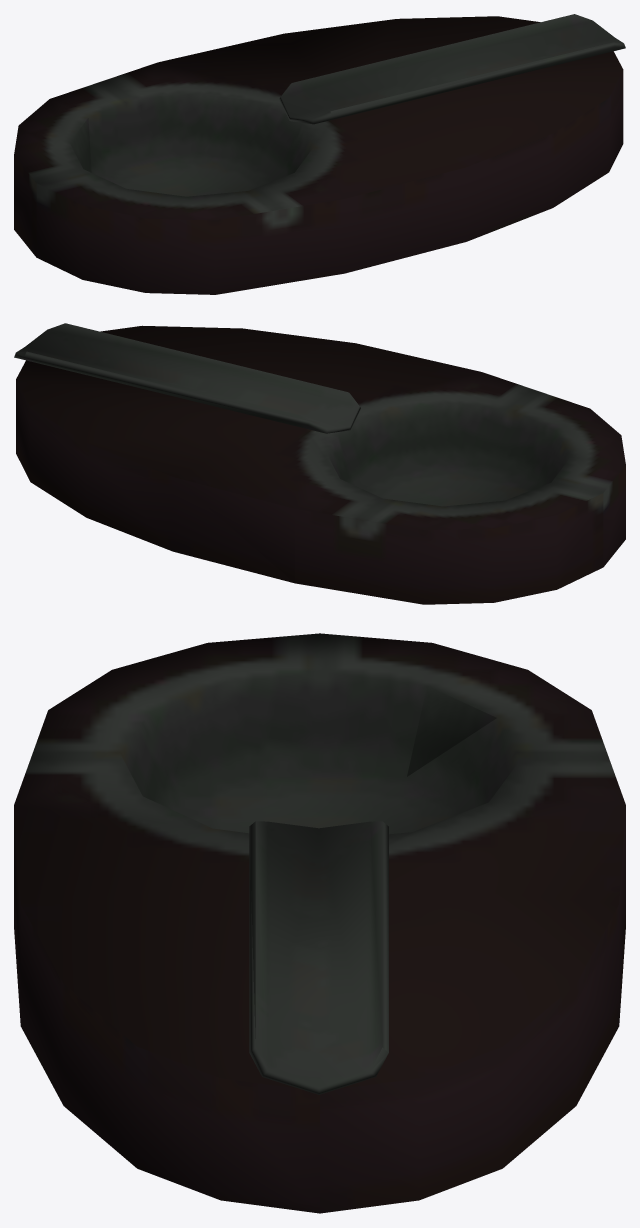
File: Cigar_Ashtray.FBX
3 views of the same model, one above another, from view 1: azimuth 30°, elevation 25°; view 2: azimuth 150°, elevation 25°; view 3: azimuth 270°, elevation 25° (orthographic). The views are drawn at different scales.
Parts seen in each view (by area): view 1: Cigar_Ashtray; view 2: Cigar_Ashtray; view 3: Cigar_Ashtray.
Part boxes in pixels (x1=…): Cigar_Ashtray: x1=14, y1=14, x2=625, y2=294; Cigar_Ashtray: x1=14, y1=323, x2=625, y2=604; Cigar_Ashtray: x1=14, y1=633, x2=625, y2=1213.
Size of the model in its own units: 0.1999 by 0.031 by 0.1118.
